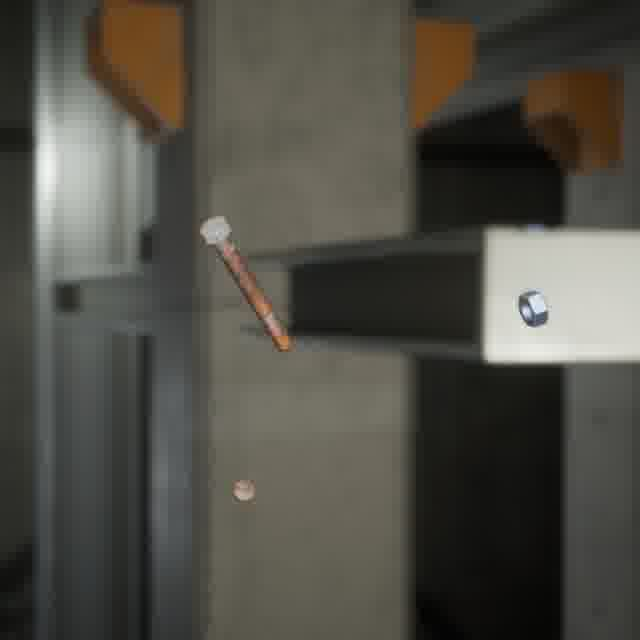bolt: (194, 211, 297, 356), (228, 470, 263, 506)
nut: (514, 286, 552, 331)
